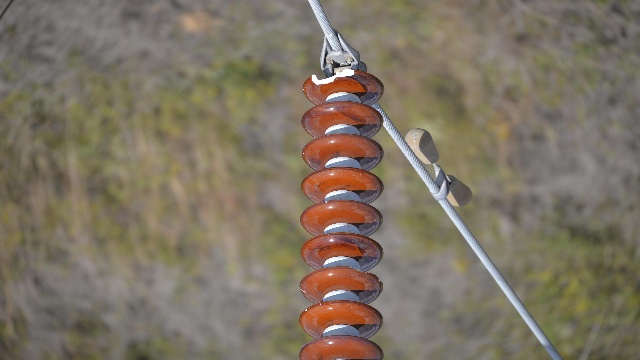broken_local: (307, 67, 356, 86), (346, 264, 385, 287)
insulator_unspecified: (296, 68, 388, 359)
